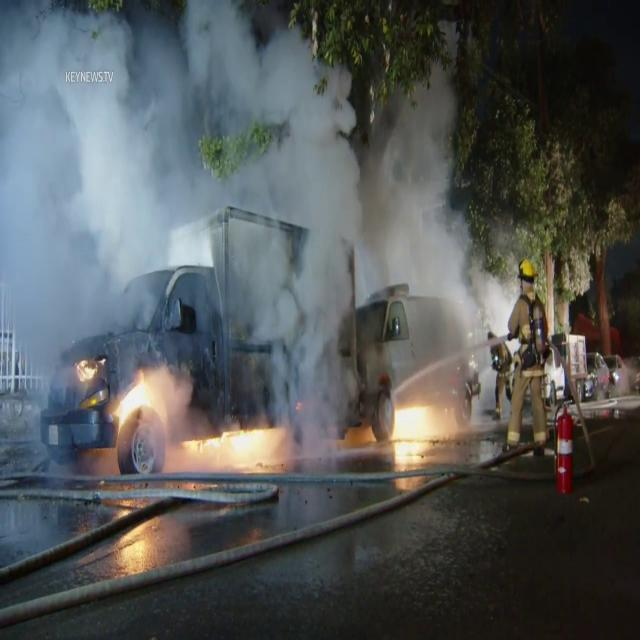Fire: (72, 348, 284, 458)
Smoke: (0, 1, 502, 343)
